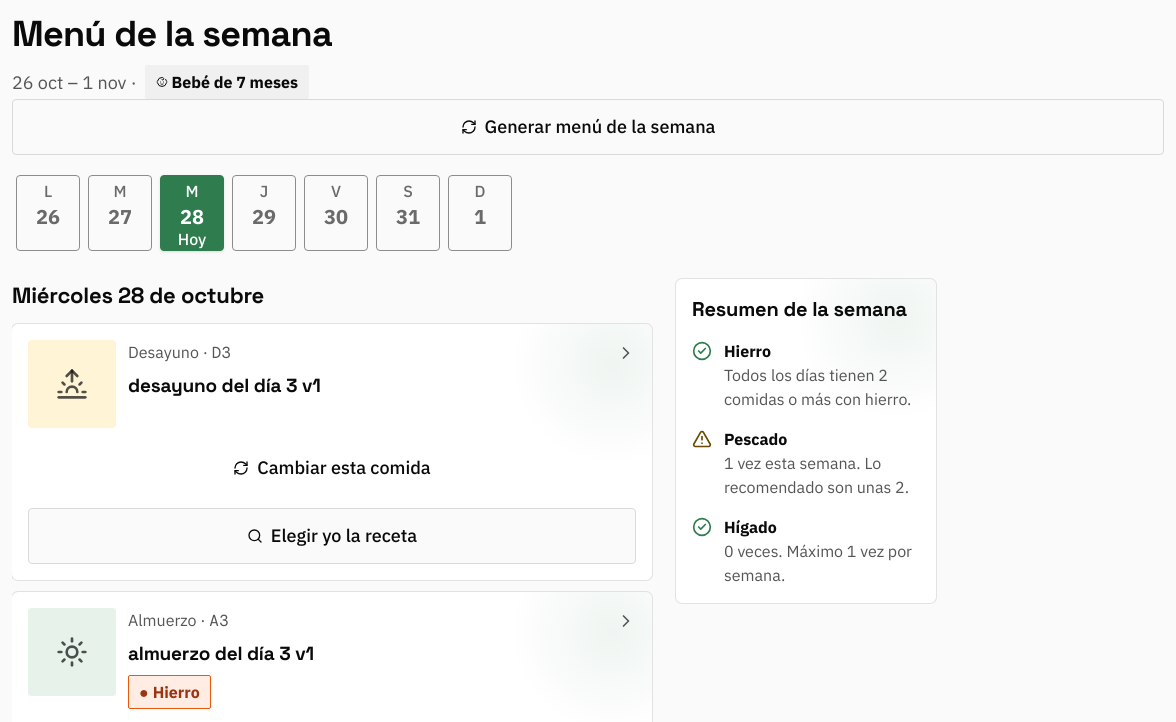
Test: menú semanal › muestra el día de hoy, cambia de día y avisa que la cena llega a los 8 meses
The image size is (1176, 722).
Expected: the heading "desayuno del día 3 v1" is shown, [128,373,321,398]
Step 1. Click the tab named "Viernes 30 de octubre" → (336, 213), box [304,175,368,251]
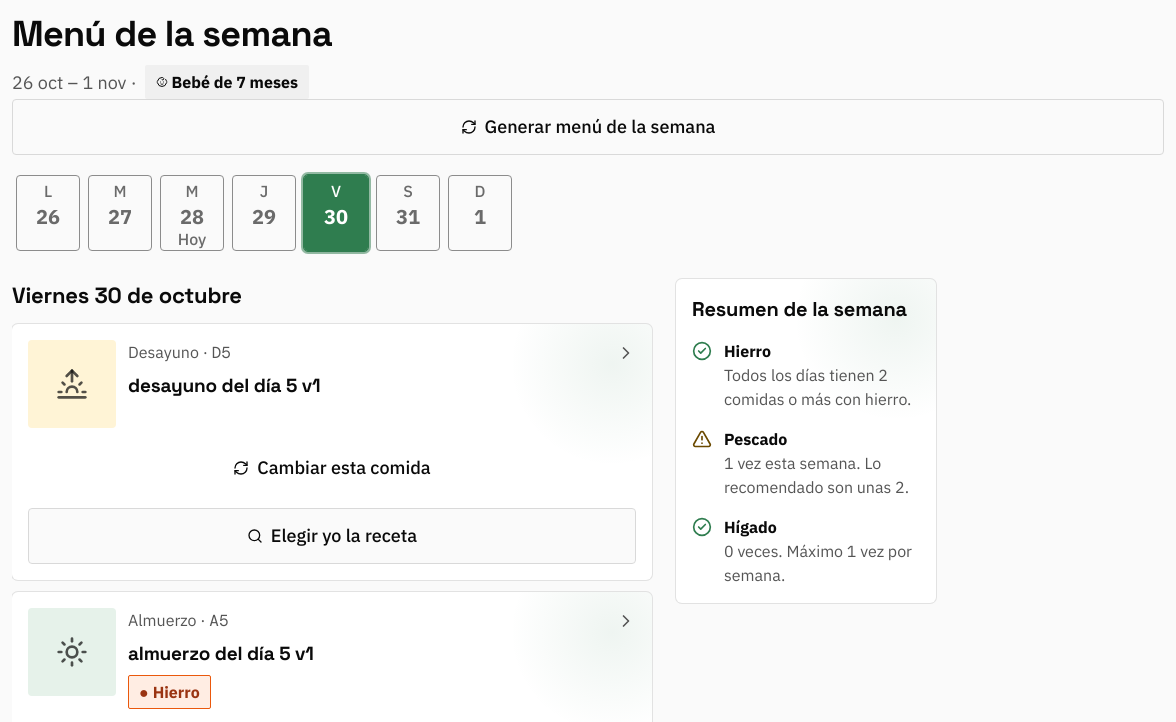
Expected: the heading "Viernes 30 de octubre" is shown, [12,281,242,309]
Expected: the heading "almuerzo del día 5 v1" is shown, [128,641,314,666]
